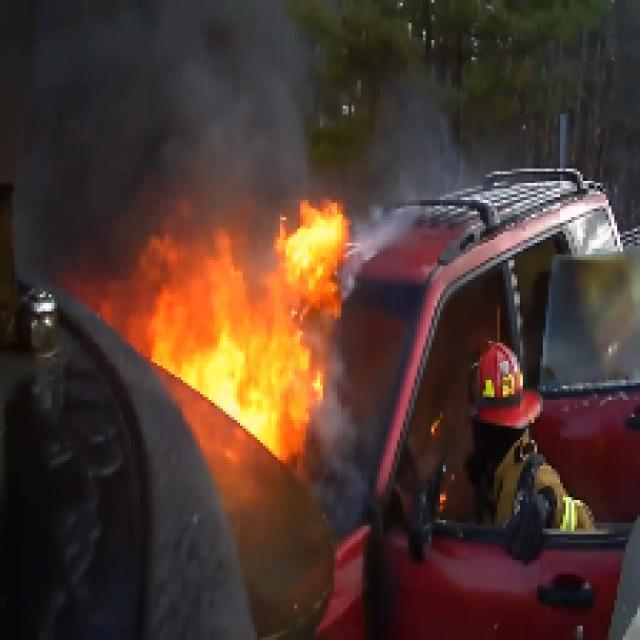Fire: (89, 186, 378, 488)
Smoke: (3, 8, 483, 266)
